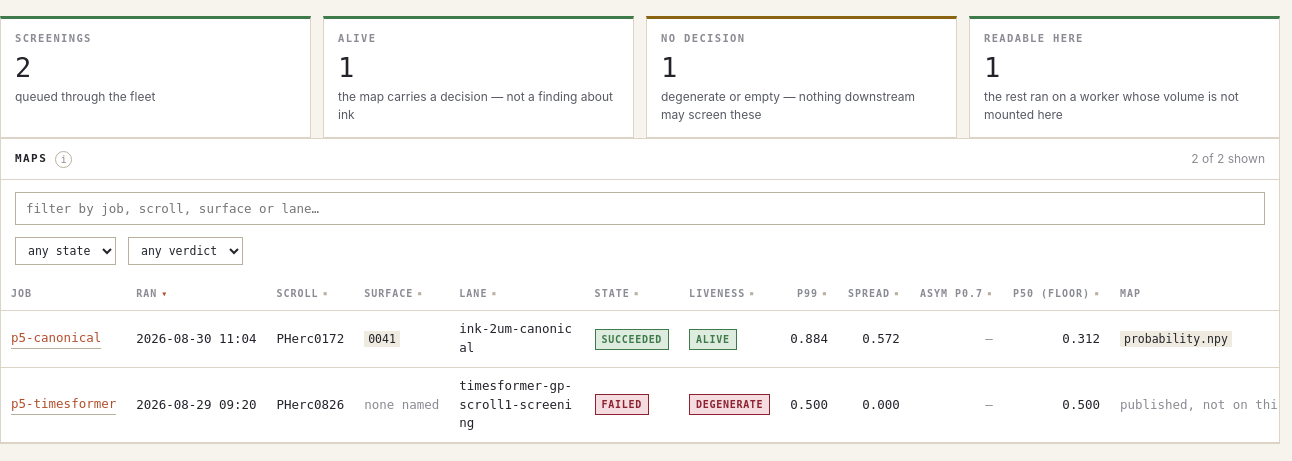
Test: the P5 run table › filters by job, scroll, surface or lane
The image size is (1292, 461).
Expected: the button "p5-canonical" is shown, x1=11 y1=329 x2=101 y2=349
Type "timesformer" into the search field named "Filter screenings" at (640, 209), box x1=15 y1=192 x2=1265 y2=225
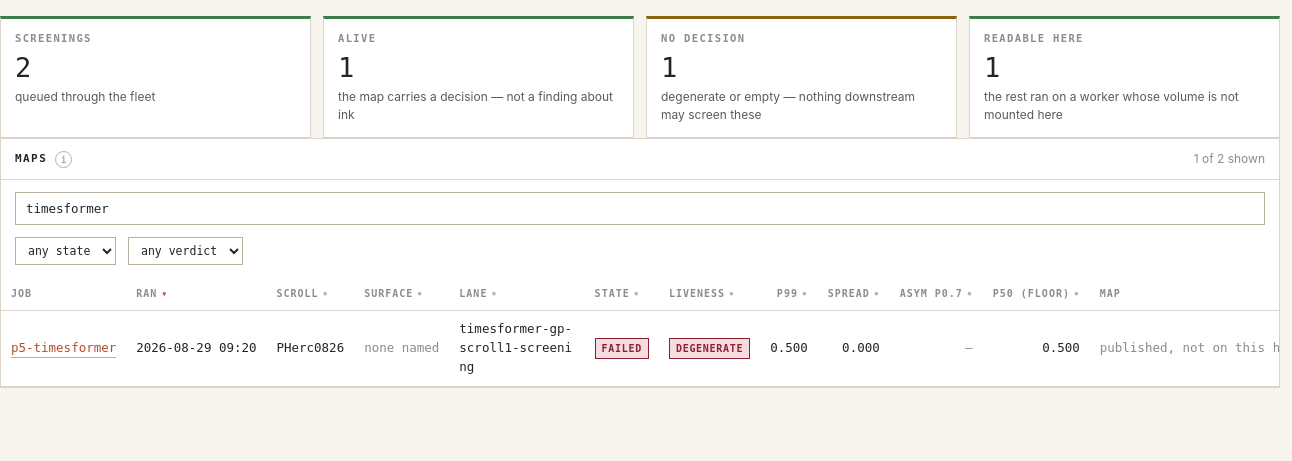
Expected: the button "p5-timesformer" is shown, x1=11 y1=338 x2=116 y2=358
Expected: the button "p5-canonical" is gone
Expected: the text "1 of 2 shown" is shown, x1=1194 y1=150 x2=1265 y2=168
